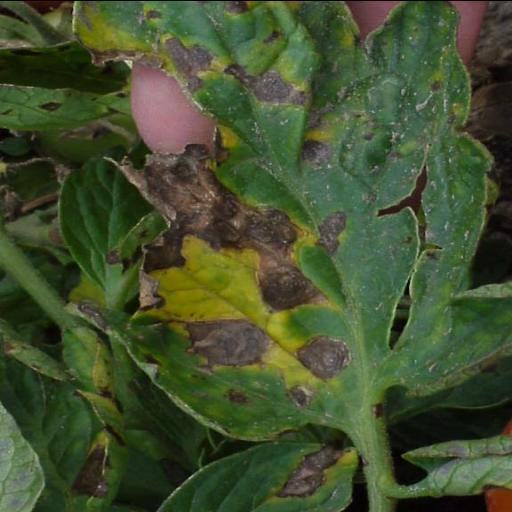disease_tomato: (114, 0, 500, 440)
